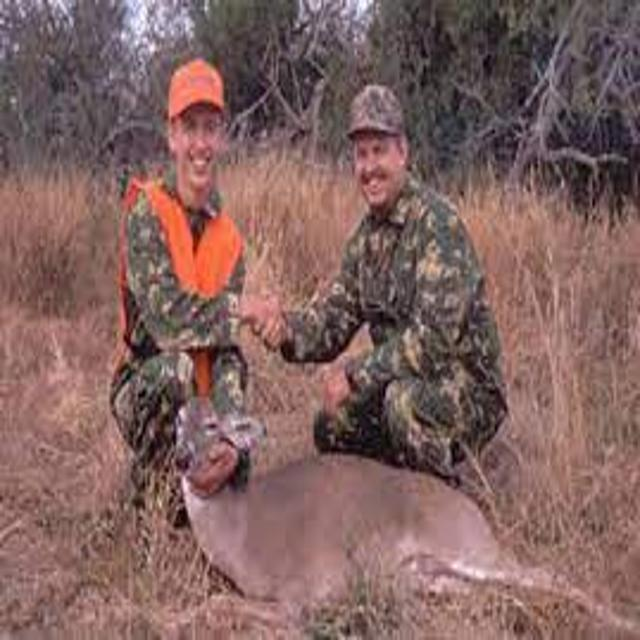Deer: (154, 374, 582, 621)
